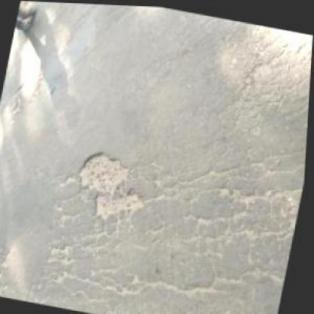Hueco: (70, 146, 156, 228)
